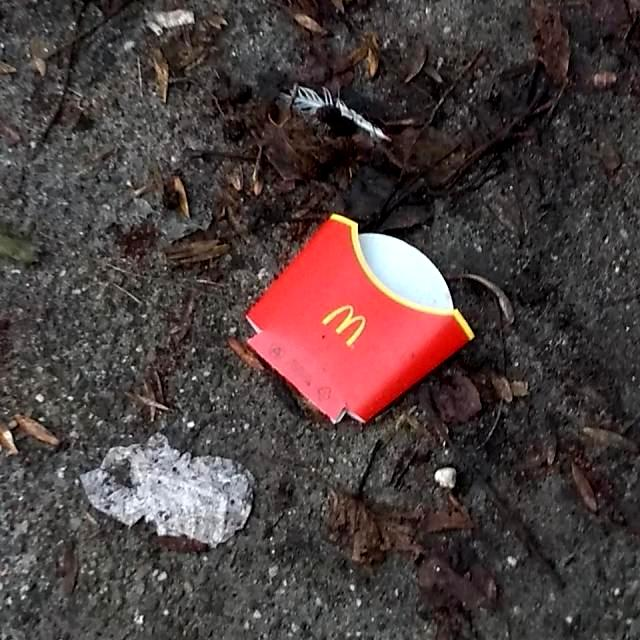Paper: (238, 210, 477, 426)
